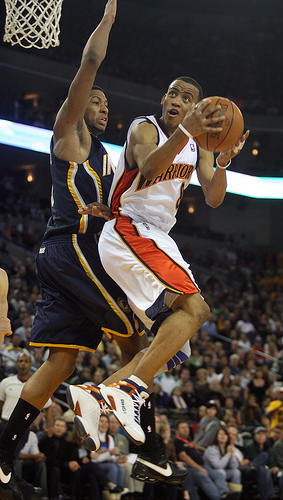basketball: (195, 98, 244, 151)
